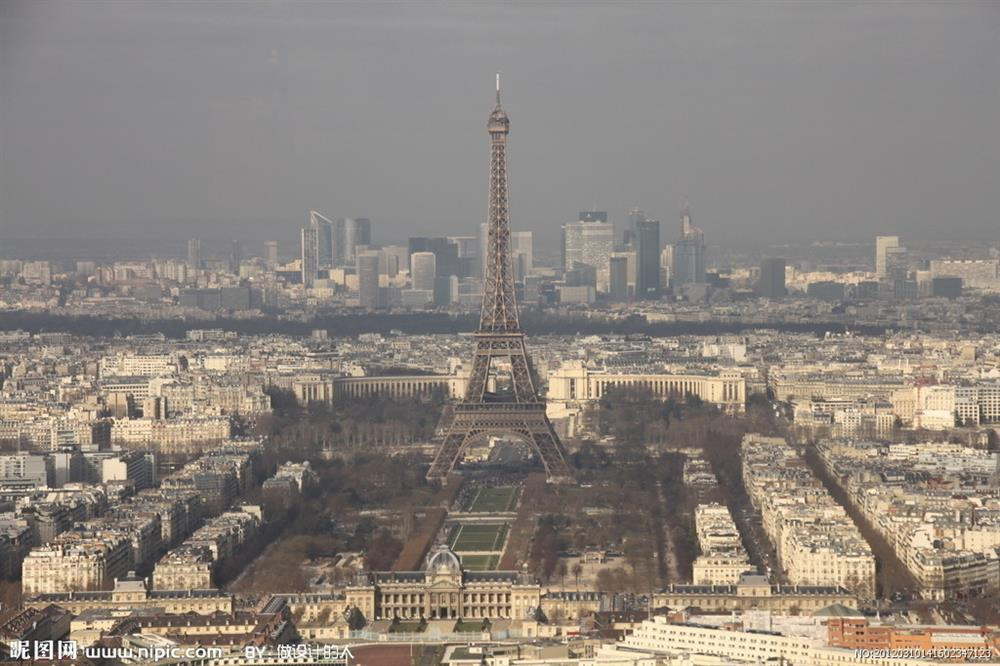Eiffel: (437, 68, 570, 478)
